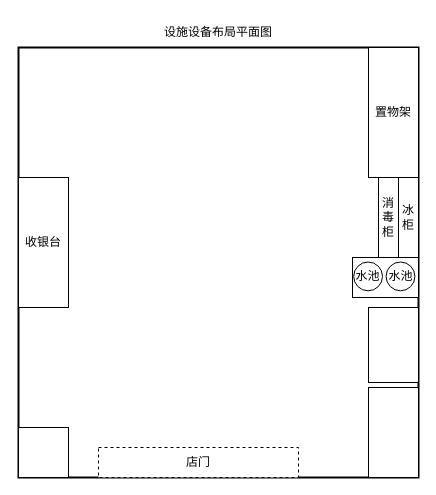
Some shapes in this 436 by 495 pixel diagram are drawn without their labels. Here are the shapes that lost their labels. From the top down, the box of each, then its label:
(368, 306, 418, 382): 操作台
(18, 426, 68, 478): 洗手池
(368, 386, 418, 478): 墙壁
